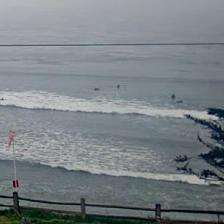surfer: (93, 87, 100, 91), (171, 93, 175, 99), (117, 84, 120, 89), (177, 100, 183, 102), (1, 98, 4, 100)
